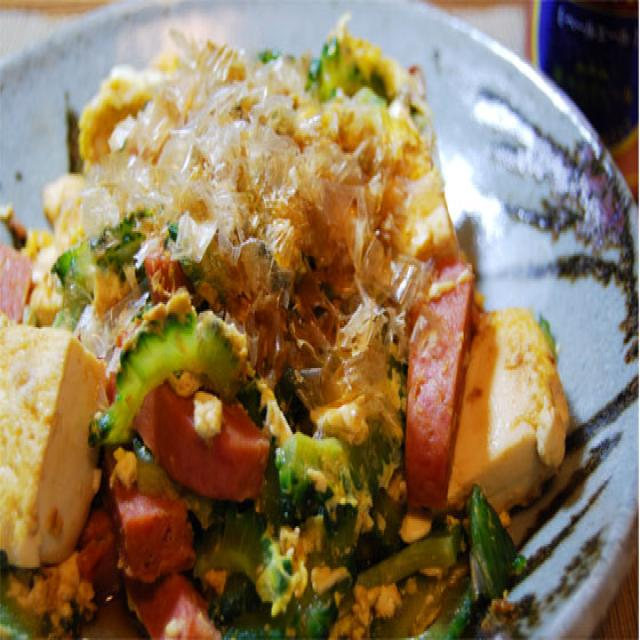熟制海鲜: (0, 28, 640, 640)
